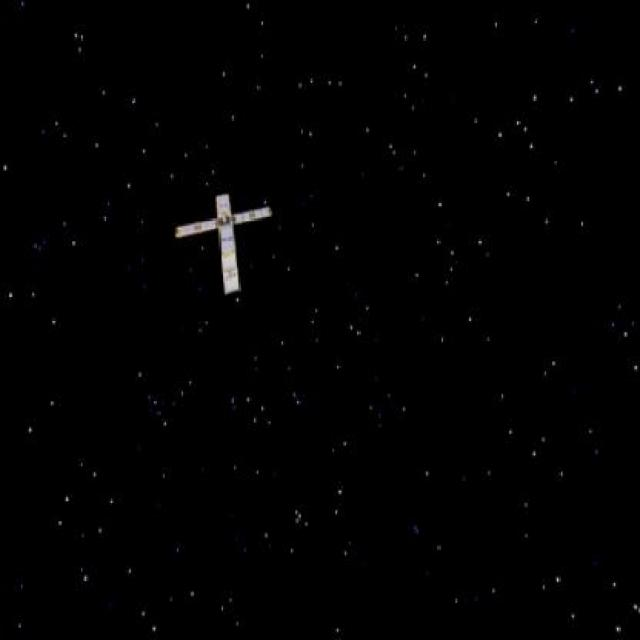medium_debris: (170, 181, 292, 306)
